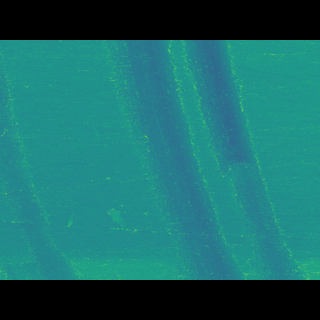Loch: (100, 69, 245, 251), (177, 69, 308, 250), (0, 89, 75, 251)
